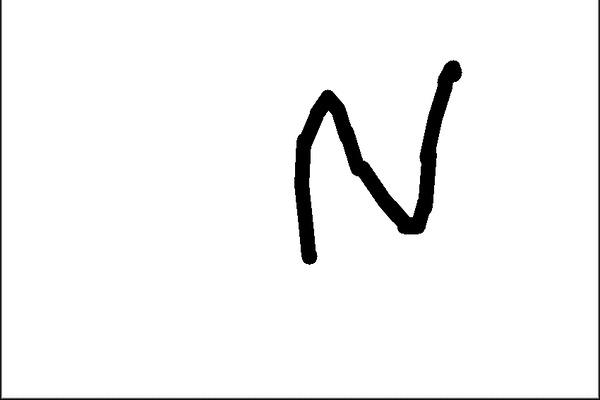N: (287, 52, 463, 271)
